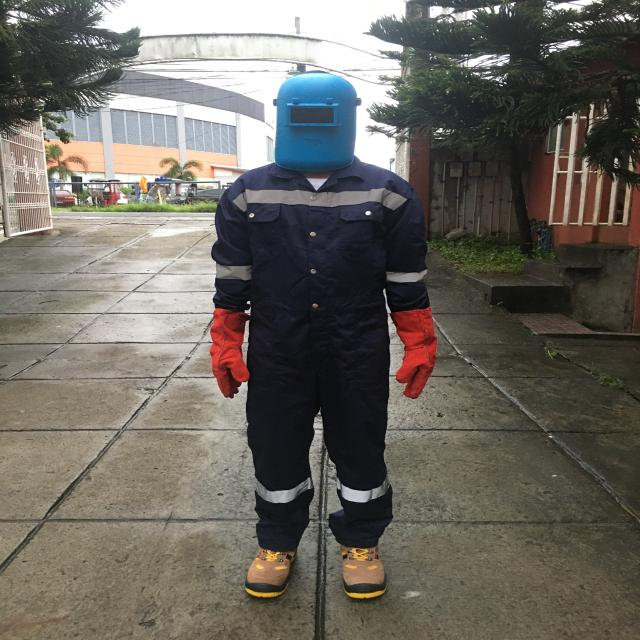with_helmet: (258, 51, 377, 176)
